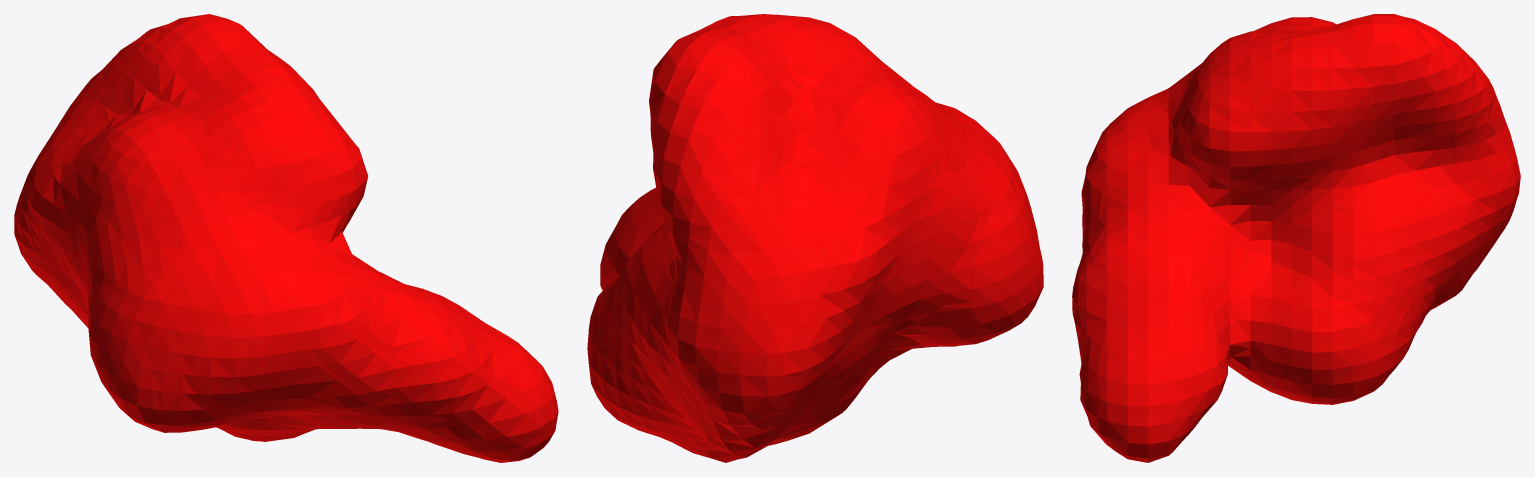
Rendered from ybfE_coarse.dae.
The picture shows the model from 3 angles, left to right: view 1: azimuth 30°, elevation 25°; view 2: azimuth 150°, elevation 25°; view 3: azimuth 270°, elevation 25°; orthographic projection. The views are drawn at different scales.
Visible parts, largest first — view 1: ybfE; view 2: ybfE; view 3: ybfE.
Part boxes in pixels (left/top/right/bottom): ybfE: left=14, top=14, right=558, bottom=462; ybfE: left=587, top=14, right=1043, bottom=462; ybfE: left=1072, top=14, right=1520, bottom=462.
Bounding box in the file's own units: 40.02 × 37.2 × 41.03.
